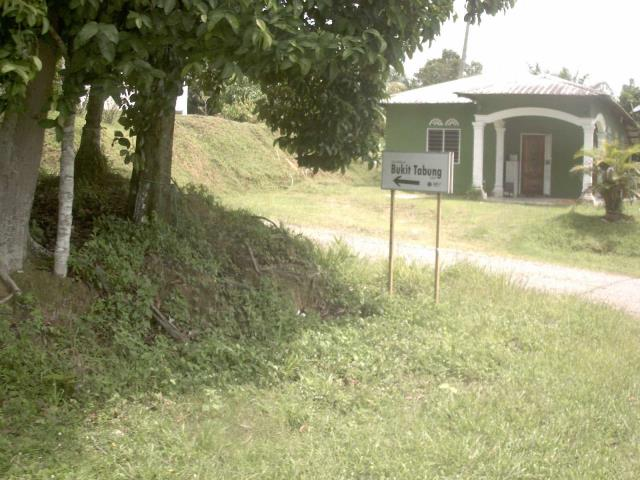ads_sign: (372, 145, 462, 199)
